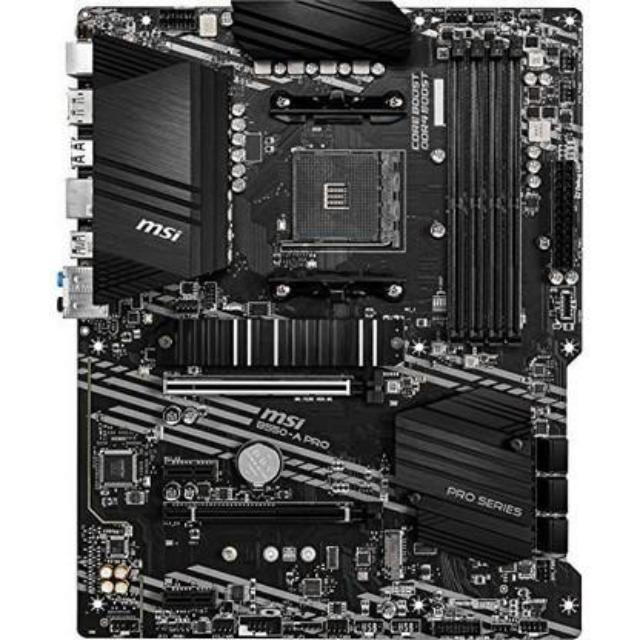Mainboard: (78, 2, 588, 640)
